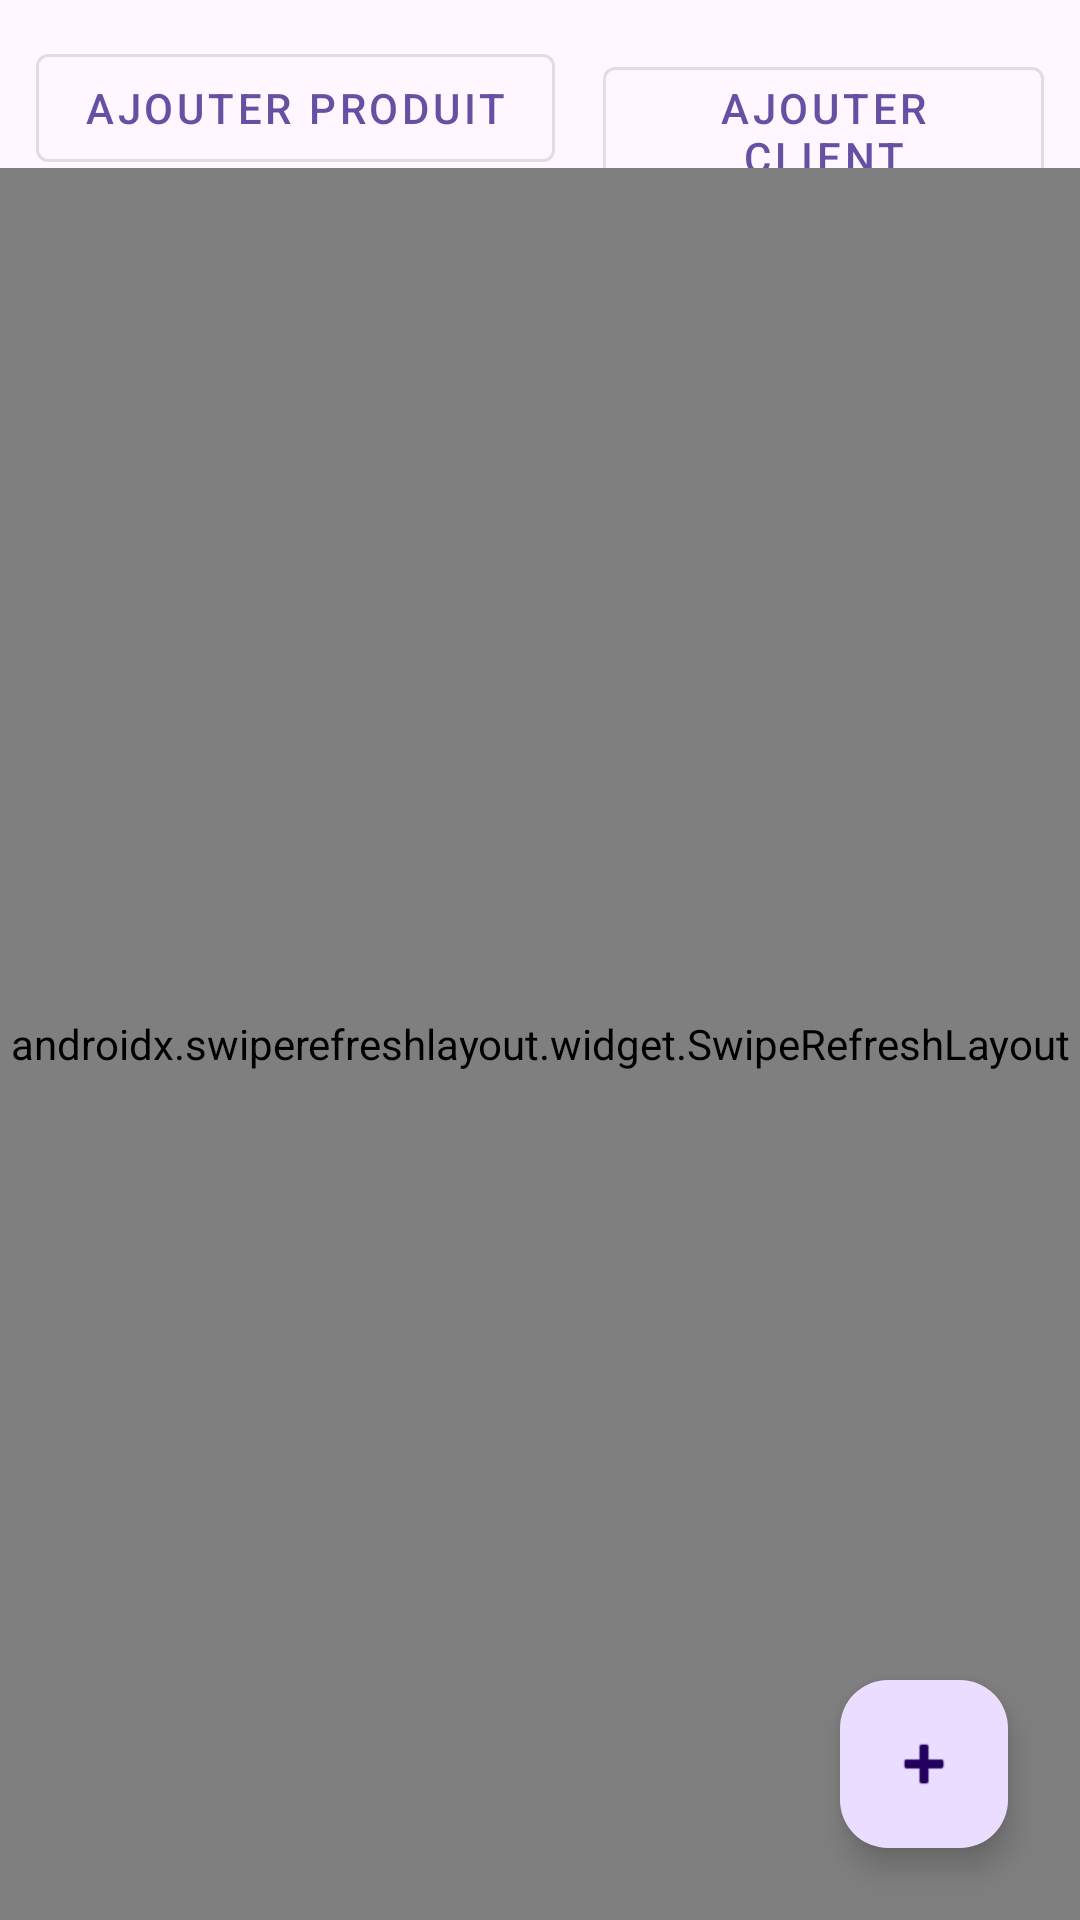

Point at icon controls on the screen. Image size 1080 x 1920, points as point (x, y).
Ajouter une livraison: point (924, 1764)
